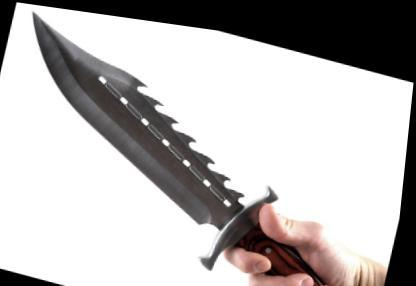knife: (0, 0, 415, 283)
